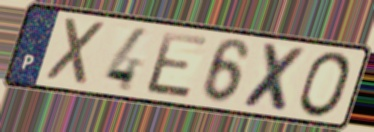4: (99, 24, 151, 95)
6: (199, 36, 253, 107)
E: (143, 29, 212, 102)
O: (297, 50, 355, 120)
X: (239, 40, 311, 116), (43, 15, 111, 89)
